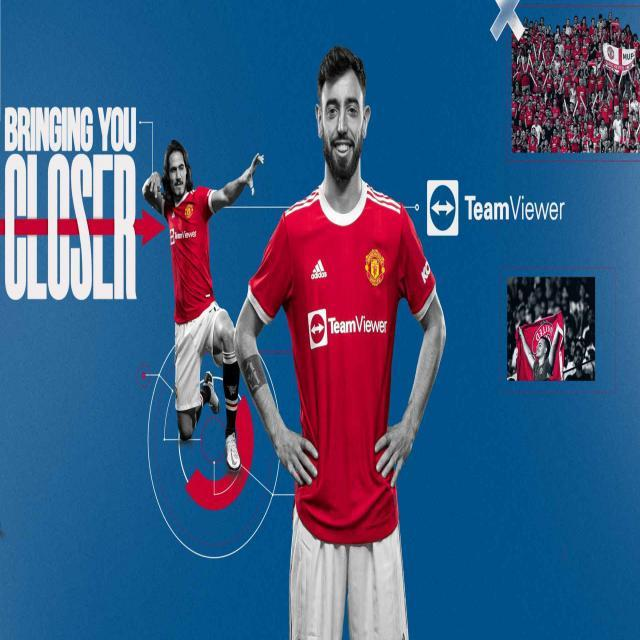Adidas: (311, 255, 328, 282)
TeamViewer: (428, 182, 564, 236), (309, 310, 388, 348)
